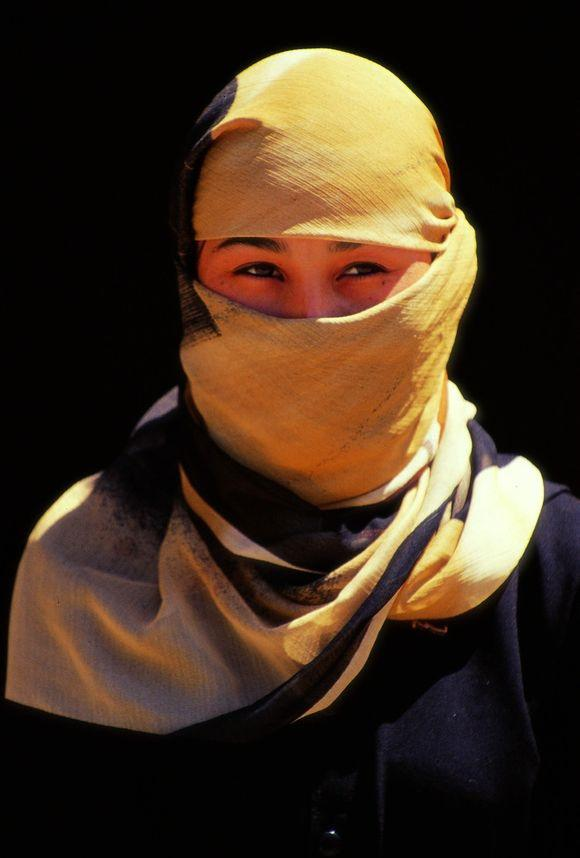OK: (205, 202, 437, 444)
